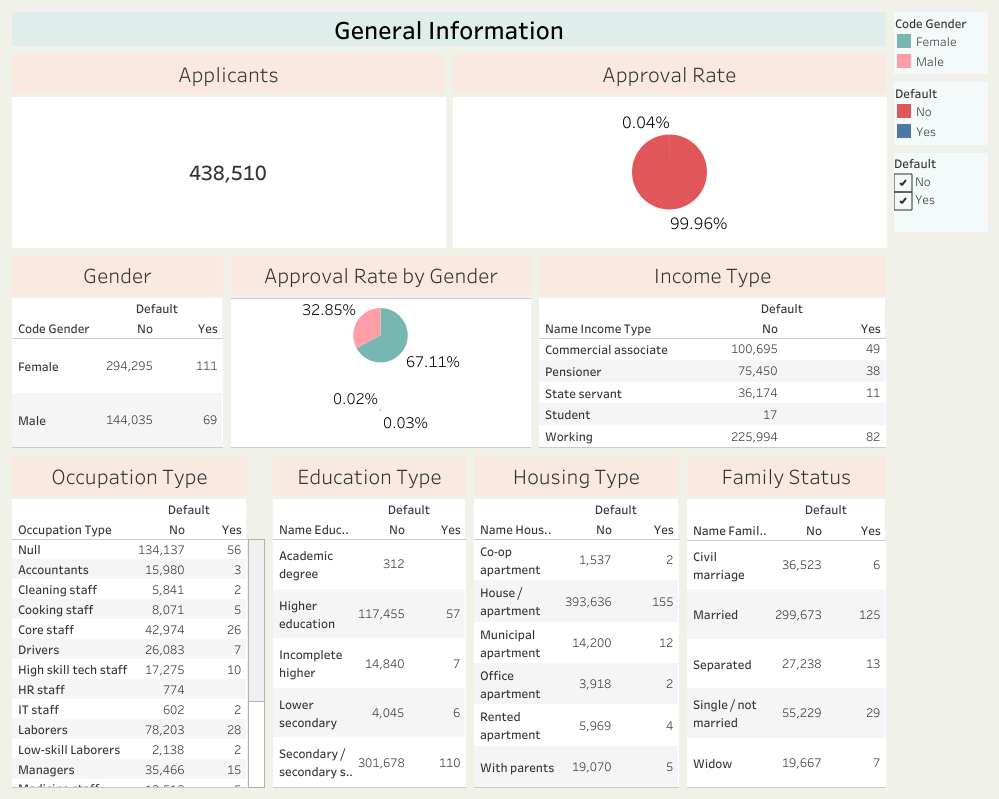

The page's visual inventory and layout, read from the dashboard file:
{"tool":"tableau","page":{"name":"Front Page","canvas":[1000,800],"ordinal":1},"visuals":[{"type":"title","box":[8,8,882,41]},{"type":"legend","title":"Approval Rate by Gender","param":"[federated.1bmfs6319iwgu818jx2ob0dmez0k].[none:CODE_GENDER:nk]","box":[890,8,102,70]},{"type":"worksheet","title":"Applicants","mark":"Automatic","box":[8,49,441,201.3]},{"type":"worksheet","title":"Approval Rate","mark":"Pie","box":[449,49,441,201.3]},{"type":"legend","title":"Approval Rate","param":"[federated.1bmfs6319iwgu818jx2ob0dmez0k].[none:Default:nk]","box":[890,78,102,71]},{"type":"filter","title":"Approval Rate","param":"[federated.1bmfs6319iwgu818jx2ob0dmez0k].[none:Default:nk]","box":[890,149,102,87]},{"type":"worksheet","title":"Gender","mark":"Automatic","rows":["CODE_GENDER"],"cols":["Default"],"box":[8,250.3,219.4,201.3]},{"type":"worksheet","title":"Approval Rate by Gender","mark":"Pie","rows":["Default"],"box":[227.4,250.3,307.2,201.3]},{"type":"worksheet","title":"Income Type","mark":"Automatic","rows":["NAME_INCOME_TYPE"],"cols":["Default"],"box":[534.6,250.3,355.4,201.3]},{"type":"worksheet","title":"Occupation Type","mark":"Automatic","rows":["OCCUPATION_TYPE"],"cols":["Default"],"box":[8,451.5,261,340.5]},{"type":"worksheet","title":"Education Type","mark":"Automatic","rows":["NAME_EDUCATION_TYPE"],"cols":["Default"],"box":[269,451.5,201,340.5]},{"type":"worksheet","title":"Housing Type","mark":"Automatic","rows":["NAME_HOUSING_TYPE"],"cols":["Default"],"box":[470,451.5,213,340.5]},{"type":"worksheet","title":"Family Status","mark":"Automatic","rows":["NAME_FAMILY_STATUS"],"cols":["Default"],"box":[683,451.5,207,340.5]}]}

Visuals, with their boxes in screenshot pixels (x1, y1, x2, y2), scaled from the page's 1000x800 canvas onto the 999x799 screenshot:
title: (left=8, top=8, right=889, bottom=49)
"Approval Rate by Gender" legend: (left=889, top=8, right=991, bottom=78)
"Applicants" worksheet: (left=8, top=49, right=449, bottom=250)
"Approval Rate" worksheet (Pie marks): (left=449, top=49, right=889, bottom=250)
"Approval Rate" legend: (left=889, top=78, right=991, bottom=149)
"Approval Rate" filter: (left=889, top=149, right=991, bottom=236)
"Gender" worksheet: (left=8, top=250, right=227, bottom=451)
"Approval Rate by Gender" worksheet (Pie marks): (left=227, top=250, right=534, bottom=451)
"Income Type" worksheet: (left=534, top=250, right=889, bottom=451)
"Occupation Type" worksheet: (left=8, top=451, right=269, bottom=791)
"Education Type" worksheet: (left=269, top=451, right=470, bottom=791)
"Housing Type" worksheet: (left=470, top=451, right=682, bottom=791)
"Family Status" worksheet: (left=682, top=451, right=889, bottom=791)
